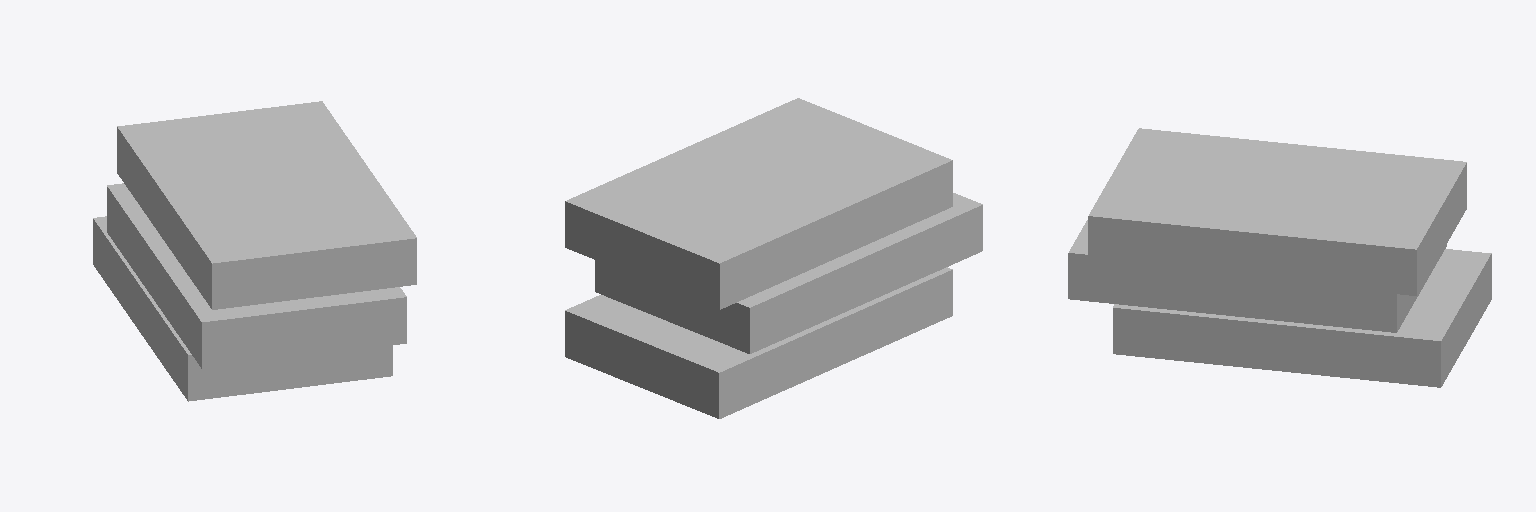
The model's file is book_pile4.obj.
3 renders of one model, left to right at view 1: azimuth 30°, elevation 25°; view 2: azimuth 150°, elevation 25°; view 3: azimuth 270°, elevation 25°, orthographic.
Parts seen in each view (by area): view 1: group3 books:Santi_Unger_Studio:Bookshelf4 books:Santi_Unger_Stu, books:Santi_Unger_Studio:Book22 group3 books:Santi_Unger_Studio:, books:Santi_Unger_Studio:polySurface7 books:Santi_Unger_Studio:B; view 2: group3 books:Santi_Unger_Studio:Bookshelf4 books:Santi_Unger_Stu, books:Santi_Unger_Studio:Book22 group3 books:Santi_Unger_Studio:, books:Santi_Unger_Studio:polySurface7 books:Santi_Unger_Studio:B; view 3: group3 books:Santi_Unger_Studio:Bookshelf4 books:Santi_Unger_Stu, books:Santi_Unger_Studio:polySurface7 books:Santi_Unger_Studio:B, books:Santi_Unger_Studio:Book22 group3 books:Santi_Unger_Studio:.
Part boxes in pixels (x1,y1,x2,y2): group3 books:Santi_Unger_Studio:Bookshelf4 books:Santi_Unger_Stu: (107,101,416,368); books:Santi_Unger_Studio:Book22 group3 books:Santi_Unger_Studio:: (93,216,392,401); books:Santi_Unger_Studio:polySurface7 books:Santi_Unger_Studio:B: (218,345,392,392); group3 books:Santi_Unger_Studio:Bookshelf4 books:Santi_Unger_Stu: (565,98,982,353); books:Santi_Unger_Studio:Book22 group3 books:Santi_Unger_Studio:: (565,267,952,418); books:Santi_Unger_Studio:polySurface7 books:Santi_Unger_Studio:B: (565,315,696,405); group3 books:Santi_Unger_Studio:Bookshelf4 books:Santi_Unger_Stu: (1068,128,1466,332); books:Santi_Unger_Studio:polySurface7 books:Santi_Unger_Studio:B: (1113,272,1483,382); books:Santi_Unger_Studio:Book22 group3 books:Santi_Unger_Studio:: (1113,249,1491,387).
Bounding box in the file's own units: 3.95 × 2.02 × 5.37.